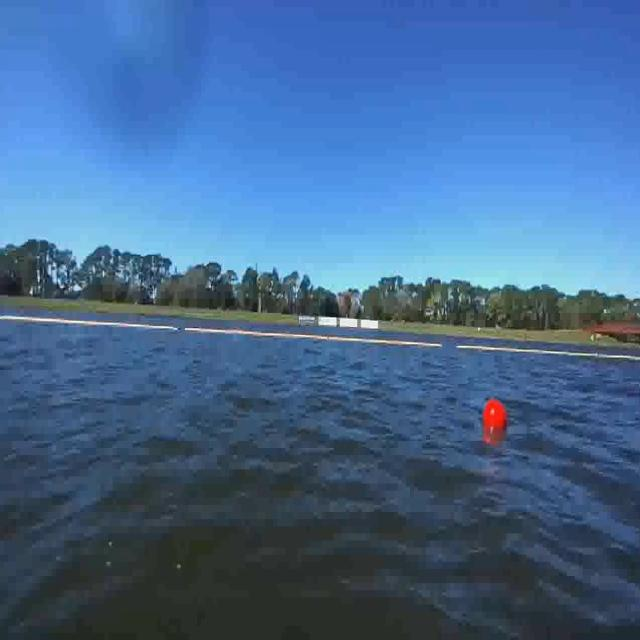red-buoy: (484, 400, 508, 434)
